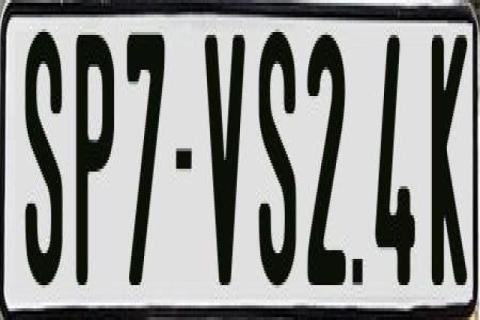0: (304, 35, 348, 288), (376, 29, 417, 279), (128, 26, 166, 291)
K: (430, 29, 460, 291)
P: (74, 29, 118, 297)
S: (23, 32, 65, 288), (257, 32, 296, 288)
V: (204, 32, 250, 296)
